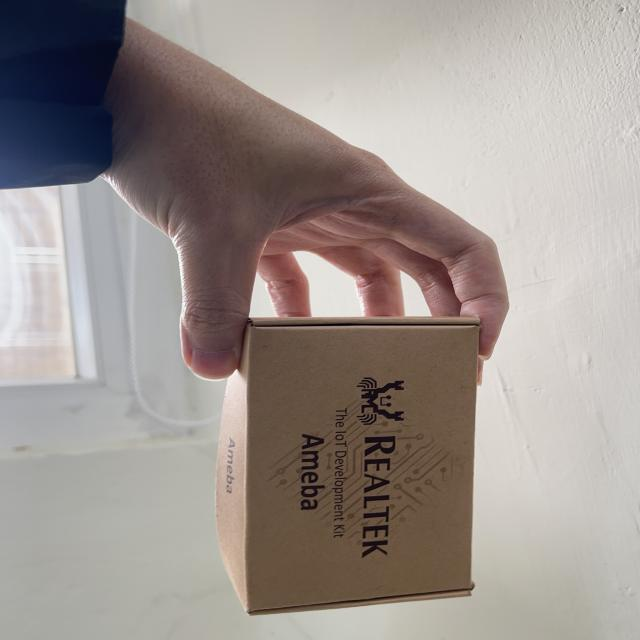box: (198, 291, 498, 619)
